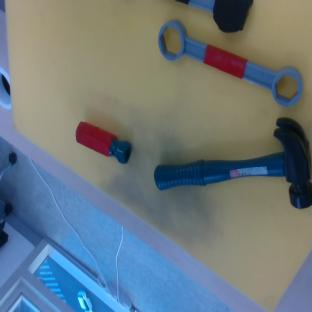part_2_good: (71, 119, 135, 165)
part_3_bad: (175, 0, 253, 33)
part_3_good: (150, 15, 309, 112)
